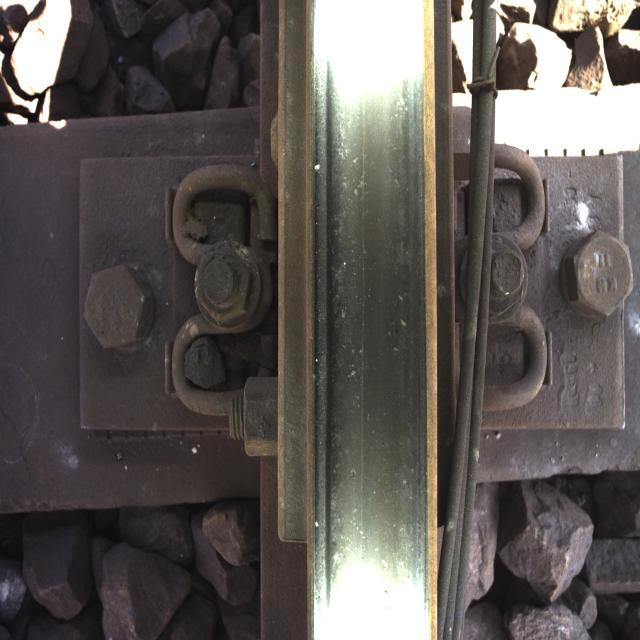normal: (319, 58, 416, 560)
